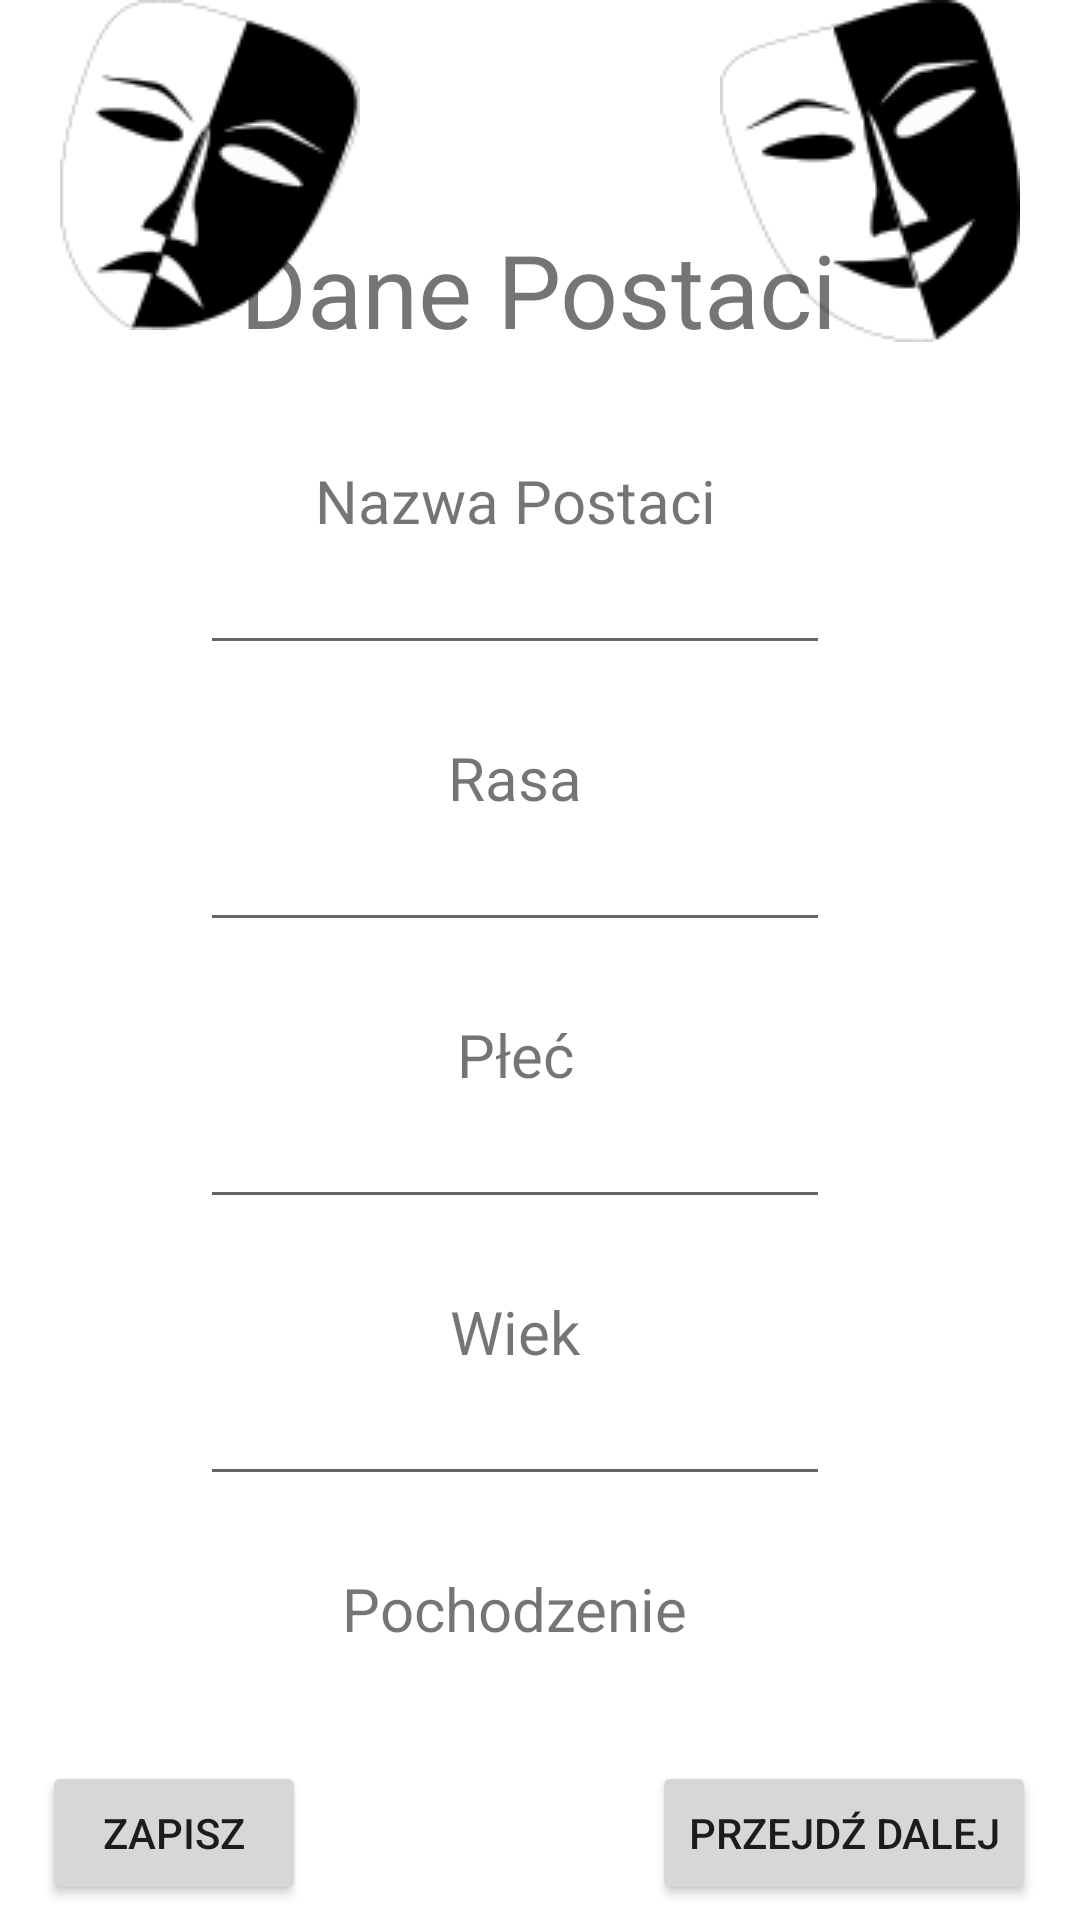

Screen size 1080×1920. Icon name, then its center in pixels as point (x, y):
maskasmutek: point (210, 165)
maskausmiech: point (870, 171)
